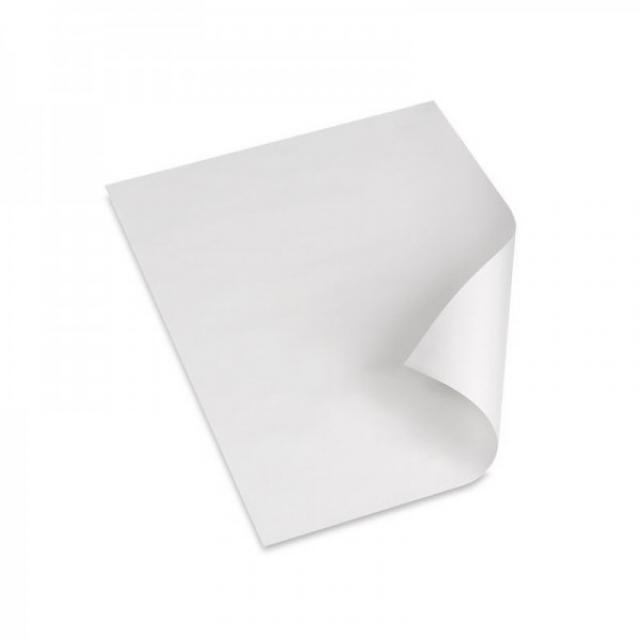Papel: (105, 96, 508, 546)
